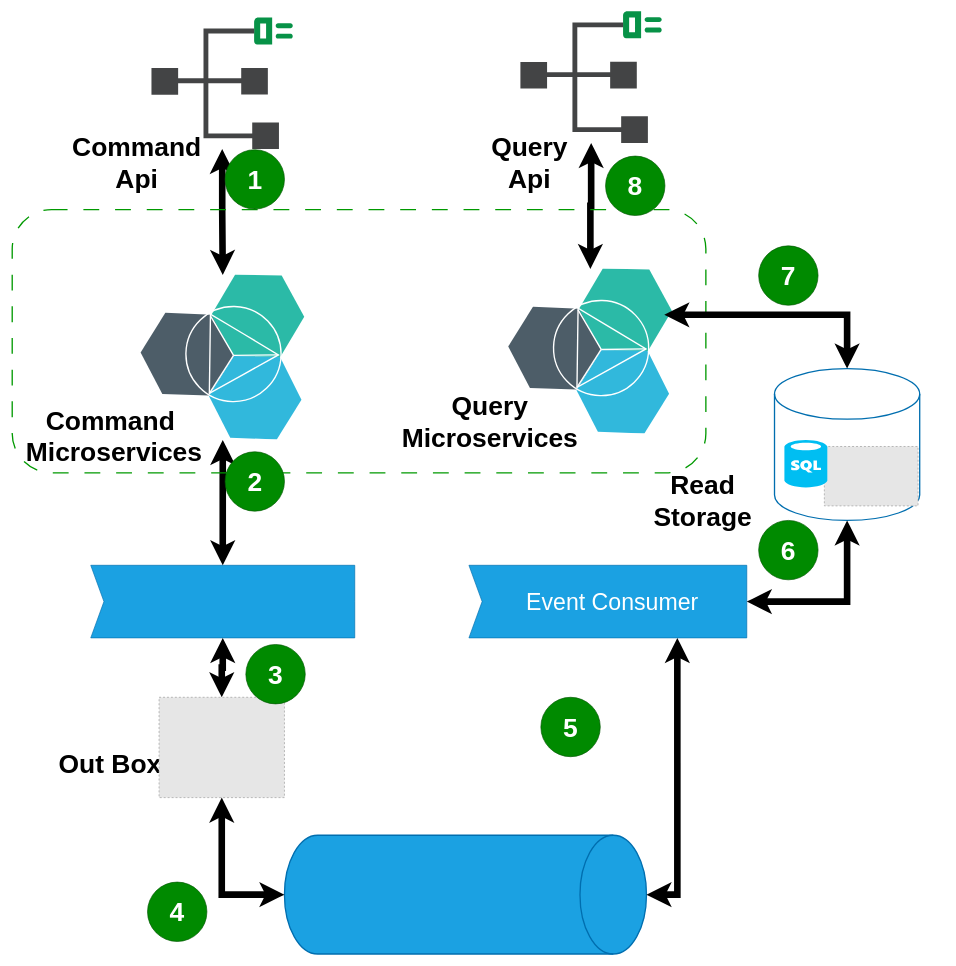
Image size: 956x966. Some labels were removed from this diagram. Grey dashed boxes stand in for pictures. The shapes that lost their labels are listed below. From the top down, each one's centre as x and y in pixels, then its label:
At [222,601]: "Event Publisher".
At [465,894]: "Message Bus: RabbitMq, Kafka".
